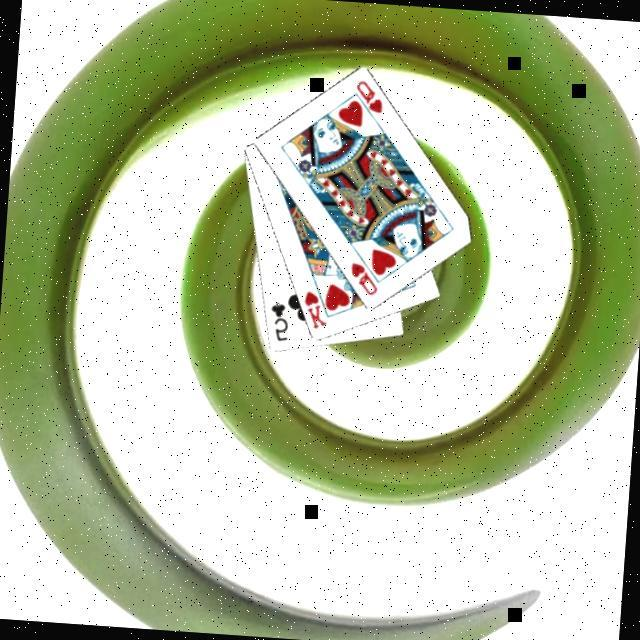5C: (264, 301, 291, 347)
KH: (297, 289, 330, 335)
QH: (348, 79, 385, 127), (345, 261, 382, 301)
